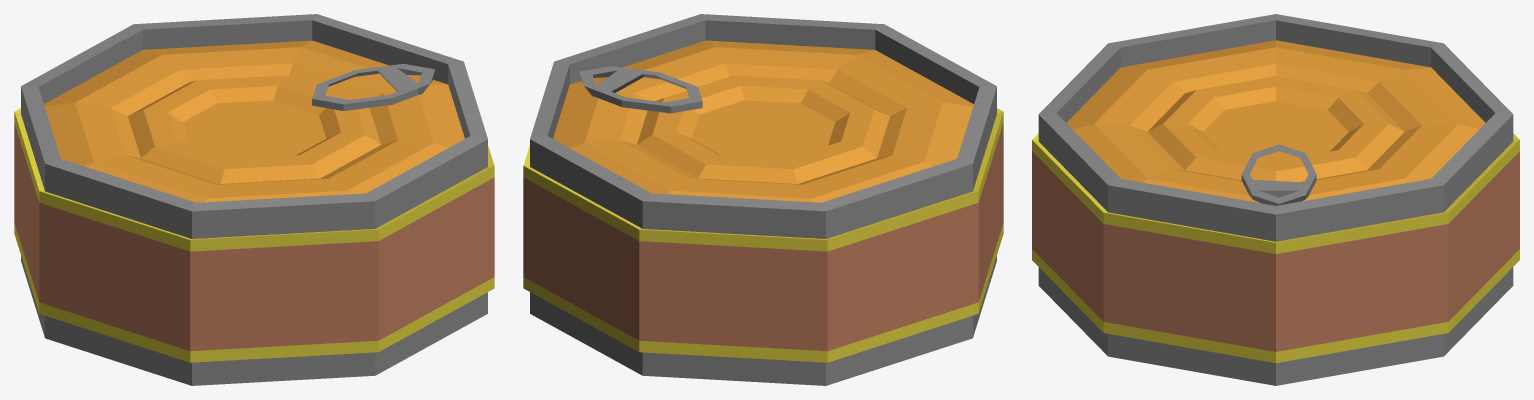
File: suh paek 2.fbx
The picture shows the model from 3 angles, left to right: view 1: azimuth 30°, elevation 25°; view 2: azimuth 150°, elevation 25°; view 3: azimuth 270°, elevation 25°; orthographic projection.
Parts seen in each view (by area): view 1: Cylinder; view 2: Cylinder; view 3: Cylinder.
Part boxes in pixels (x1,y1,x2,y2): Cylinder: [14, 14, 494, 385]; Cylinder: [523, 14, 1003, 385]; Cylinder: [1032, 14, 1519, 385].
Size of the model in its own units: 122 by 47.77 by 122.
